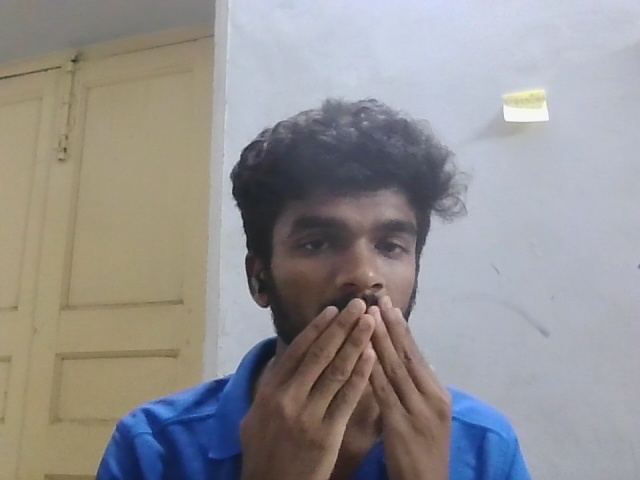Thanks: (237, 278, 478, 480)
